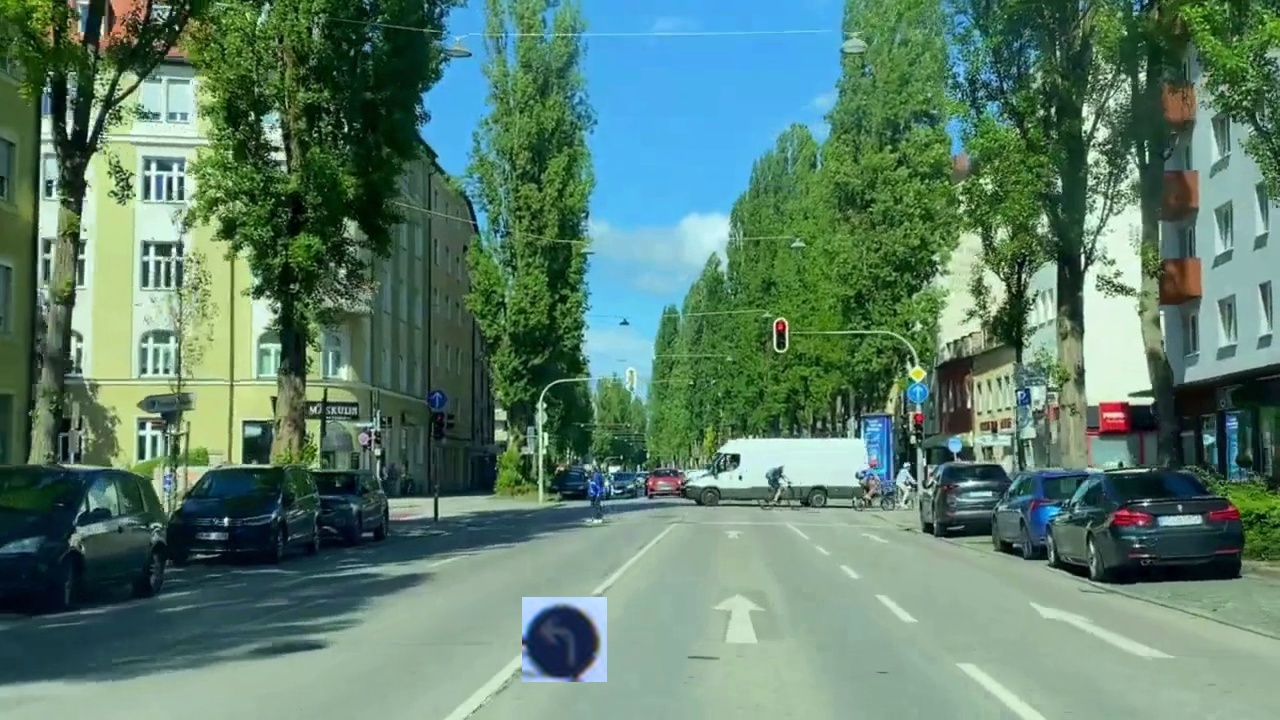Turn left: (522, 597, 607, 682)
